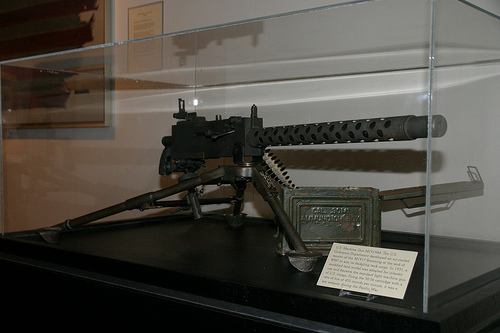rifle: (45, 106, 438, 246)
